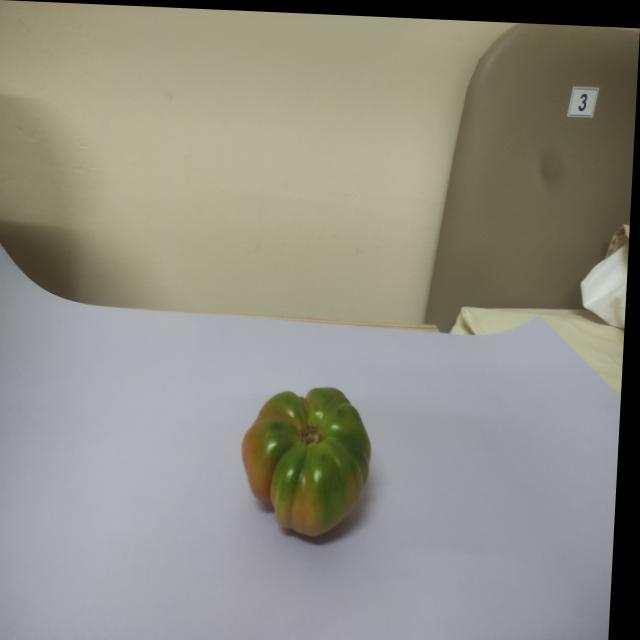yesil: (236, 357, 384, 537)
